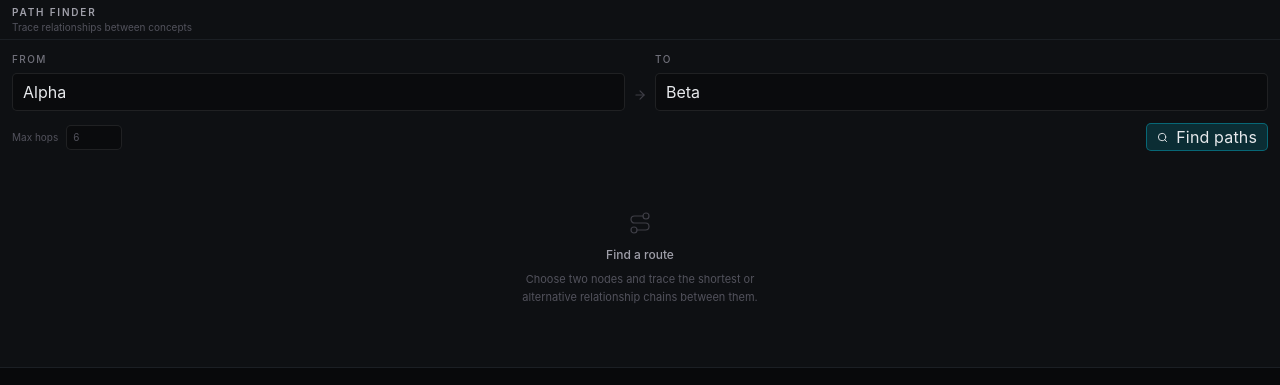
Test: PathFinderPanel › reports when no route exists within the hop limit
The width and height of the screenshot is (1280, 385).
Select "Gamma" in the dropdown labelled "To". click: (962, 92)
box: [655,73,1268,111]
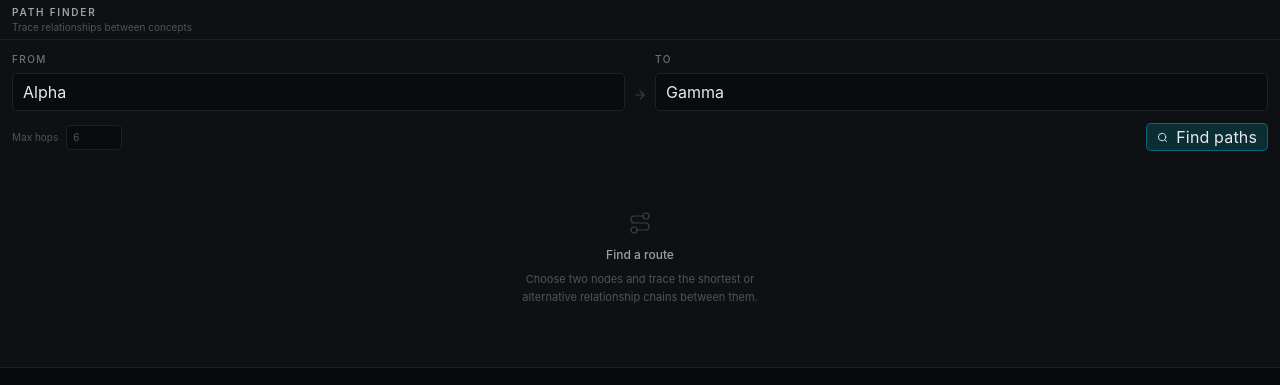
Replace the text in the number field named "Maximum path length" with "1". click: (94, 137)
box: [66,124,122,150]
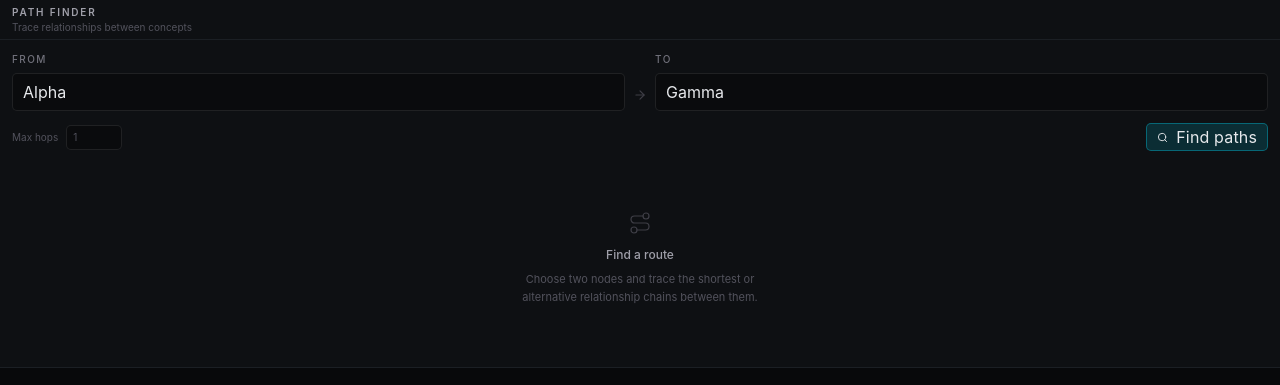
Click the button "Find paths". click: (1207, 137)
box: [1146,123,1268,151]
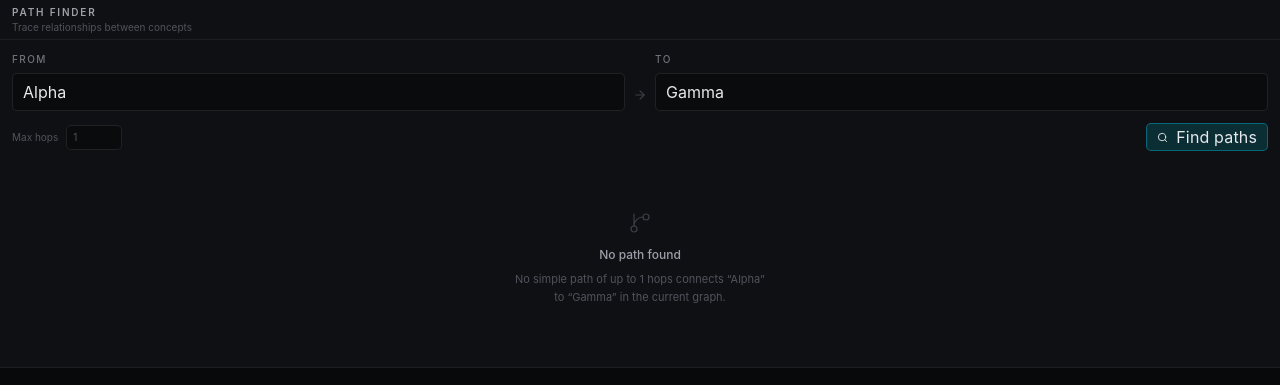
Now the text "No path found" is shown, box [599,247,681,263]
Now the text "No simple path of up to 1 hops" is shown, box [515,272,765,304]
